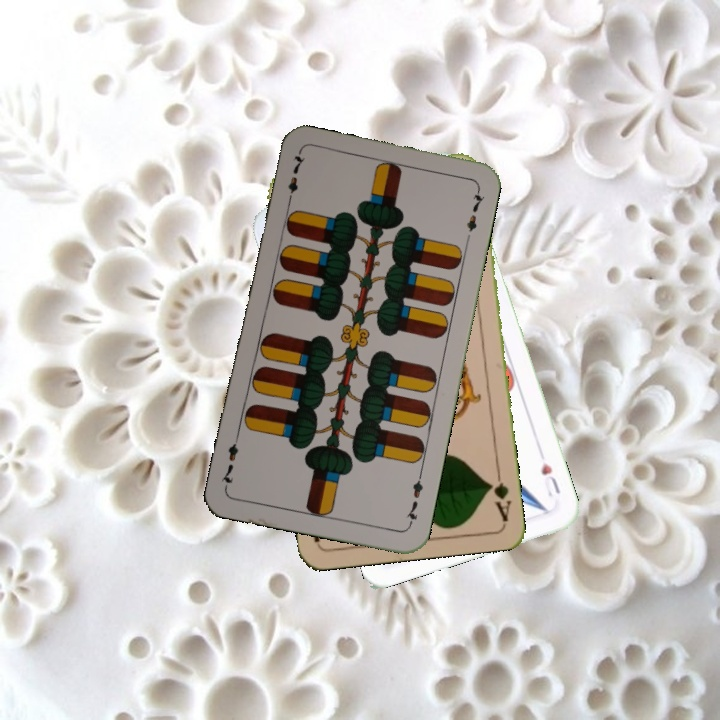E7: (283, 149, 308, 208), (402, 470, 426, 529)
GA: (484, 464, 514, 524)
HU: (537, 458, 563, 500)
